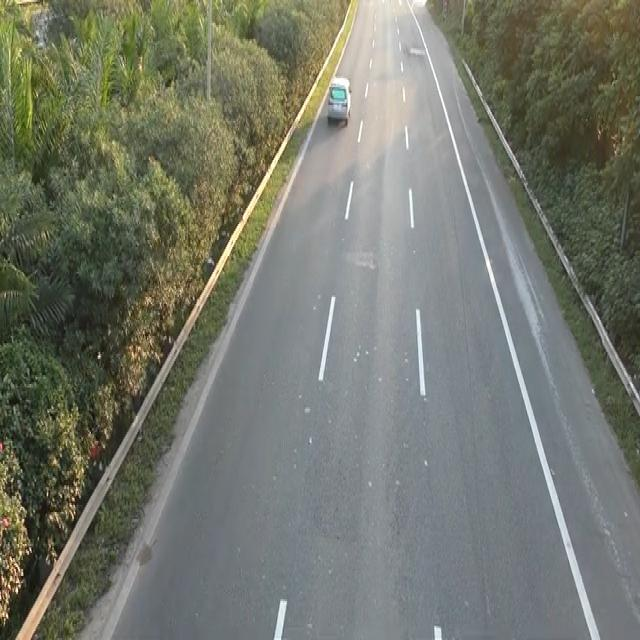lorry: (325, 73, 353, 126)
